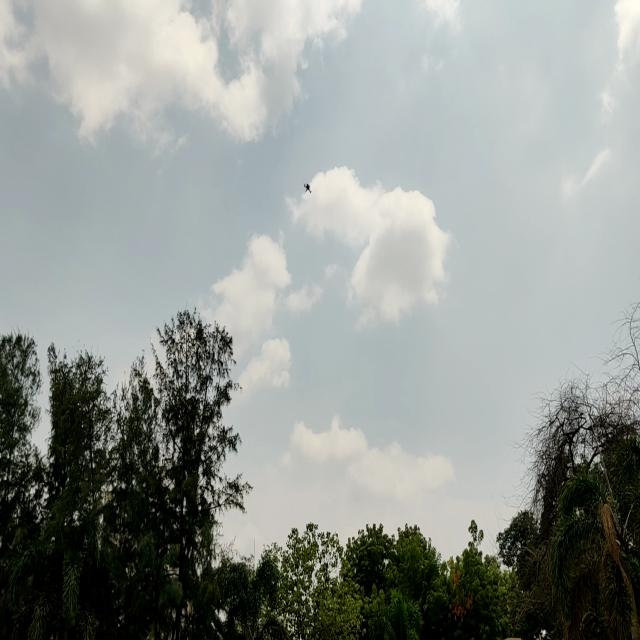drone: (300, 178, 314, 200)
